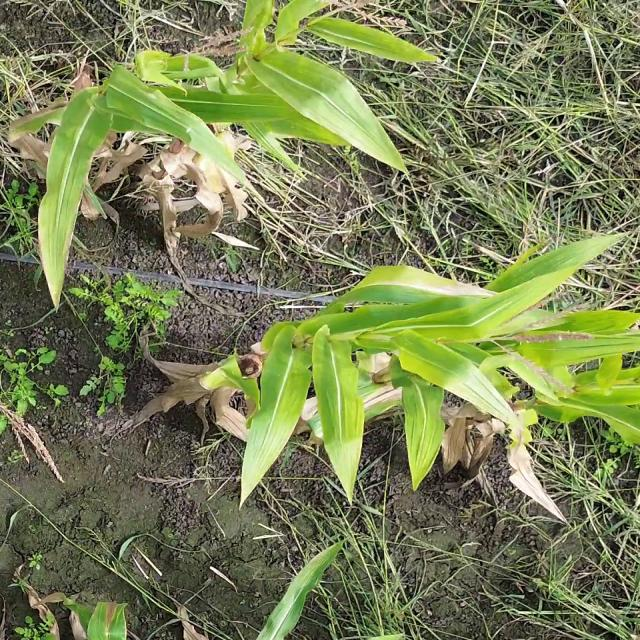gray-leaf-spot: (512, 250, 578, 281), (293, 555, 335, 588)
northern-leaf-blight: (388, 274, 499, 303), (92, 604, 132, 636)
